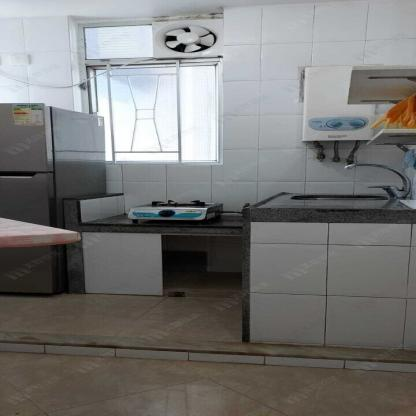Exhaust Fan: (152, 21, 222, 57)
Faucet: (342, 162, 411, 199)
Fridge: (2, 103, 106, 225)
Sink: (290, 194, 392, 202)
Stove: (123, 199, 224, 219)
